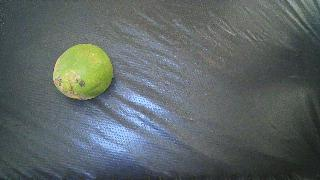DESECHO: (53, 44, 113, 100)
